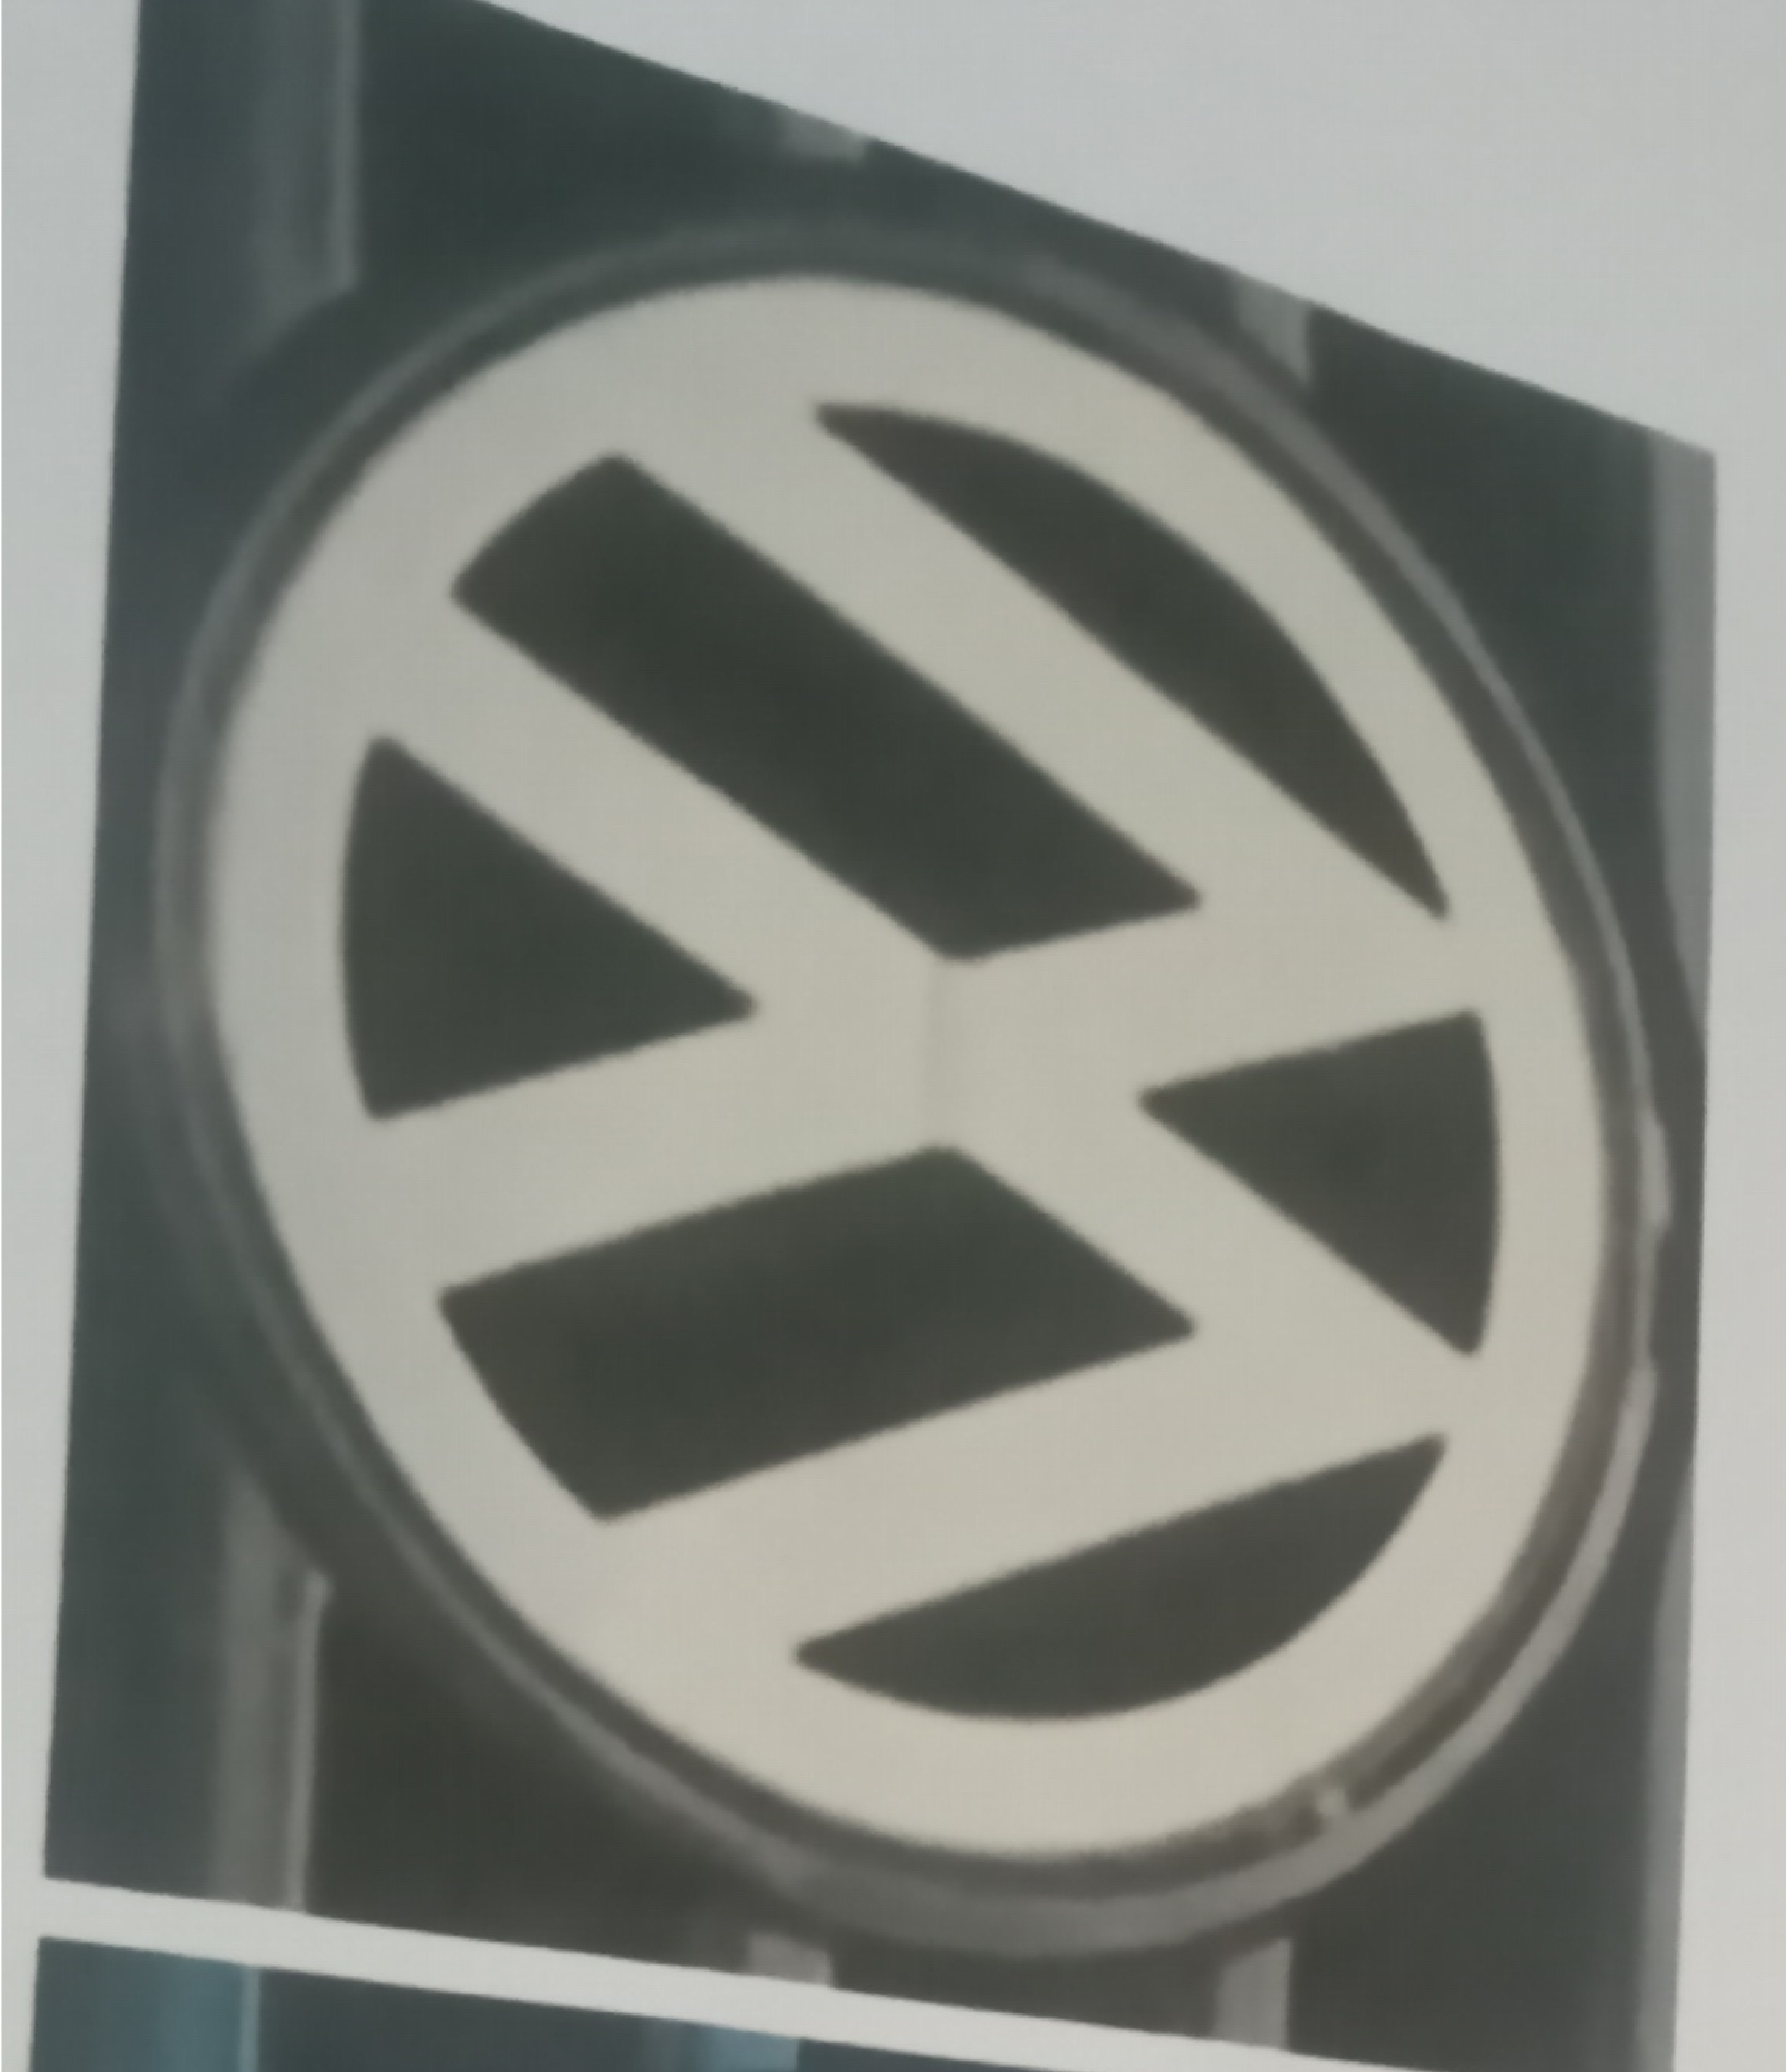Volkswagen: (139, 204, 1670, 1954)
